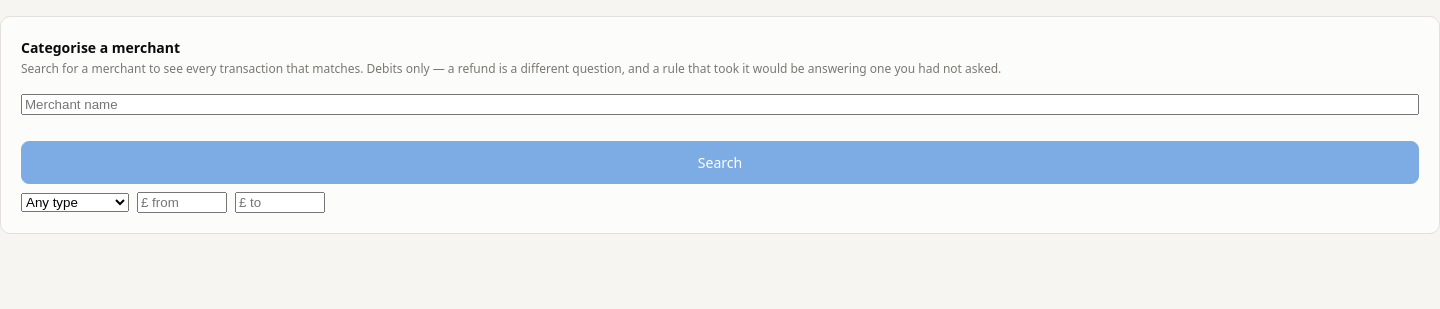
Scenario: searching › still says something when the failure is not an Error
Type "somemart" into the field labelled "Merchant".
click(720, 104); type("somemart")  # box [21,94,1419,115]
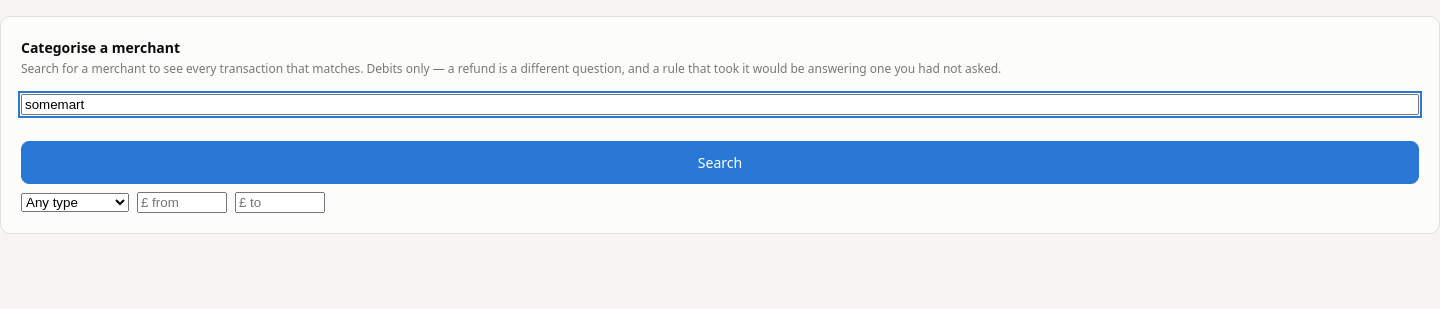
Click the button "Search".
click(720, 162)  # box [21,141,1419,184]
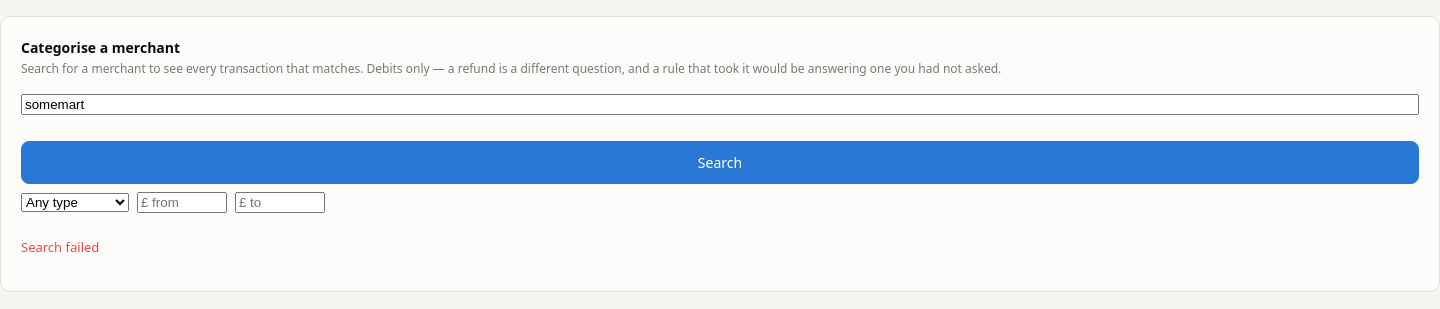
Now the text "Search failed" is shown, box [21,238,99,256]
